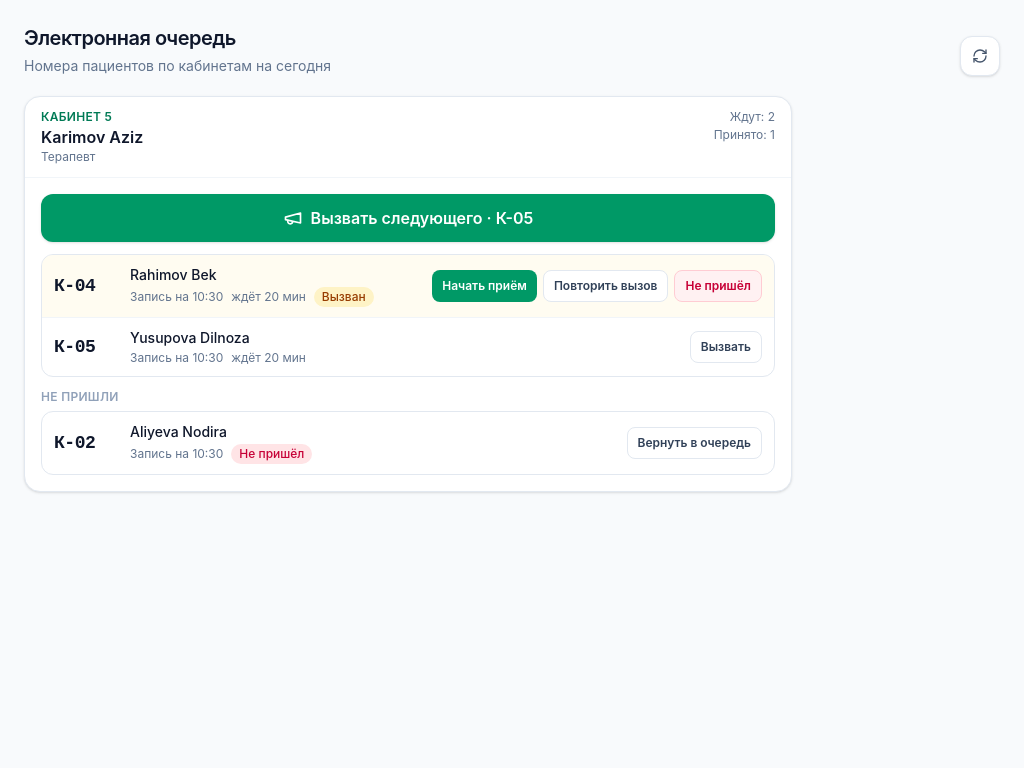
Test case: staff queue page › lets reception return a missed patient to the queue
The image size is (1024, 768).
Click the button "Вернуть в очередь": (694,443) [626,427,762,459]
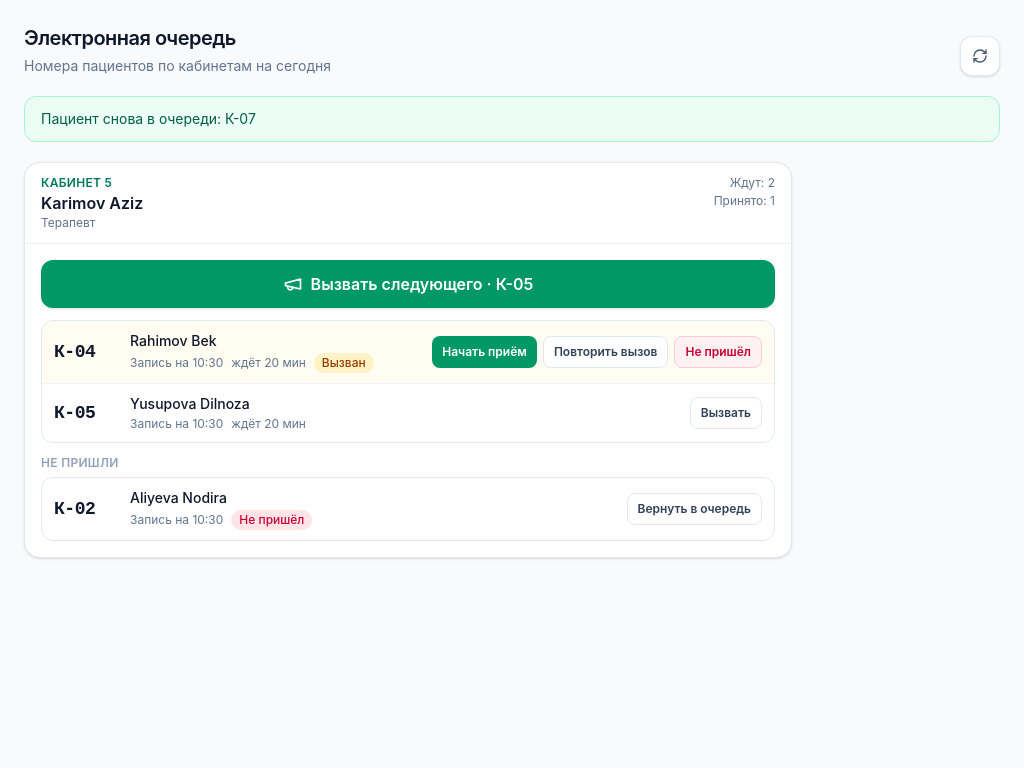
Expected: the text "Пациент снова в очереди: К-07" is shown, [24,96,1000,142]
